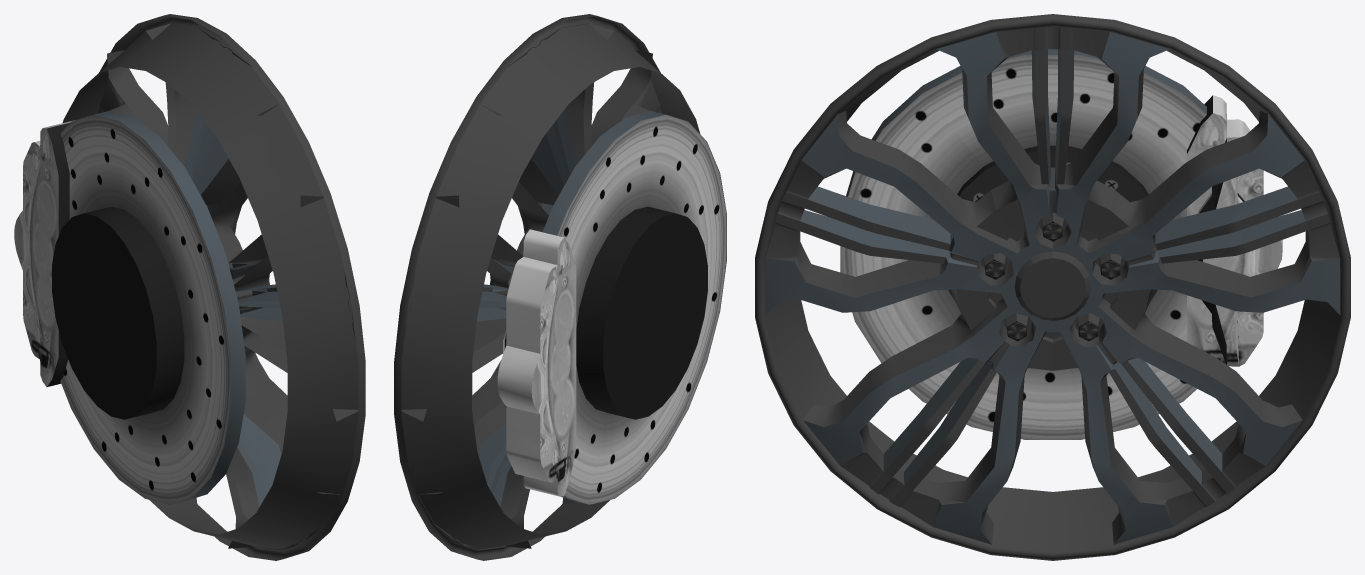
3 views of the same model, side by side, from view 1: azimuth 30°, elevation 25°; view 2: azimuth 150°, elevation 25°; view 3: azimuth 270°, elevation 25° (orthographic). The views are drawn at different scales.
Visible parts, largest first — view 1: 090, BrakeDisc, Caliper; view 2: 090, BrakeDisc, Caliper; view 3: 090, BrakeDisc, Caliper.
Boxes of the visible parts, x1,y1,x2,y2 form: 090: (62, 14, 365, 560); BrakeDisc: (52, 111, 245, 504); Caliper: (14, 120, 75, 386); 090: (394, 14, 700, 560); BrakeDisc: (542, 111, 726, 504); Caliper: (497, 229, 576, 496); 090: (755, 14, 1350, 560); BrakeDisc: (840, 49, 1206, 439); Caliper: (1187, 95, 1282, 366).
Size of the model in its own units: 0.1483 by 0.5391 by 0.5361.
